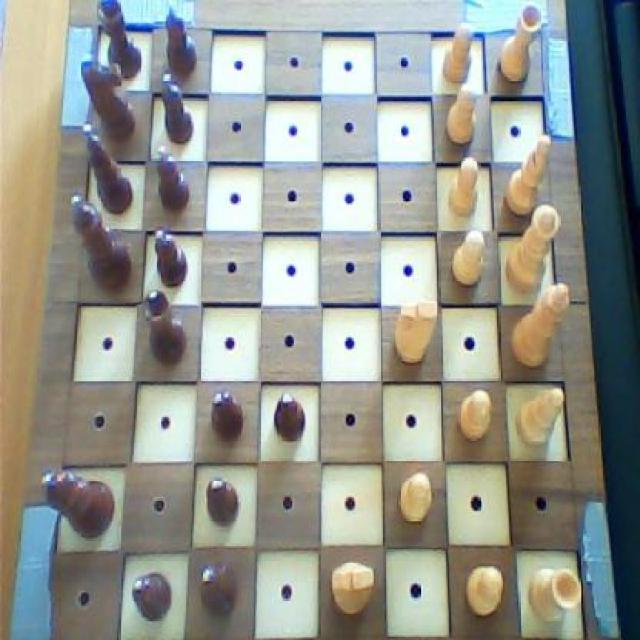bishop: (80, 122, 138, 220), (192, 556, 242, 616)
black-bishop: (38, 464, 118, 542)
black-king: (77, 49, 138, 146)
black-knight: (156, 68, 197, 147), (161, 0, 201, 78), (149, 222, 191, 290), (126, 568, 174, 627), (154, 141, 191, 217), (206, 384, 247, 448), (269, 389, 309, 449), (202, 474, 243, 531)
black-pawn: (64, 192, 134, 298)
black-queen: (91, 0, 146, 82), (140, 284, 189, 368)
black-rook: (503, 130, 555, 222), (517, 386, 568, 459)
white-bishop: (508, 278, 573, 371)
white-king: (391, 296, 440, 372), (329, 554, 376, 623)
white-knight: (437, 18, 477, 88), (445, 152, 483, 225), (449, 224, 489, 292), (462, 560, 504, 622), (445, 85, 482, 152), (454, 386, 494, 445), (398, 469, 436, 528)
white-pawn: (502, 202, 562, 300)
white-queen: (495, 0, 547, 88), (524, 562, 584, 624)
